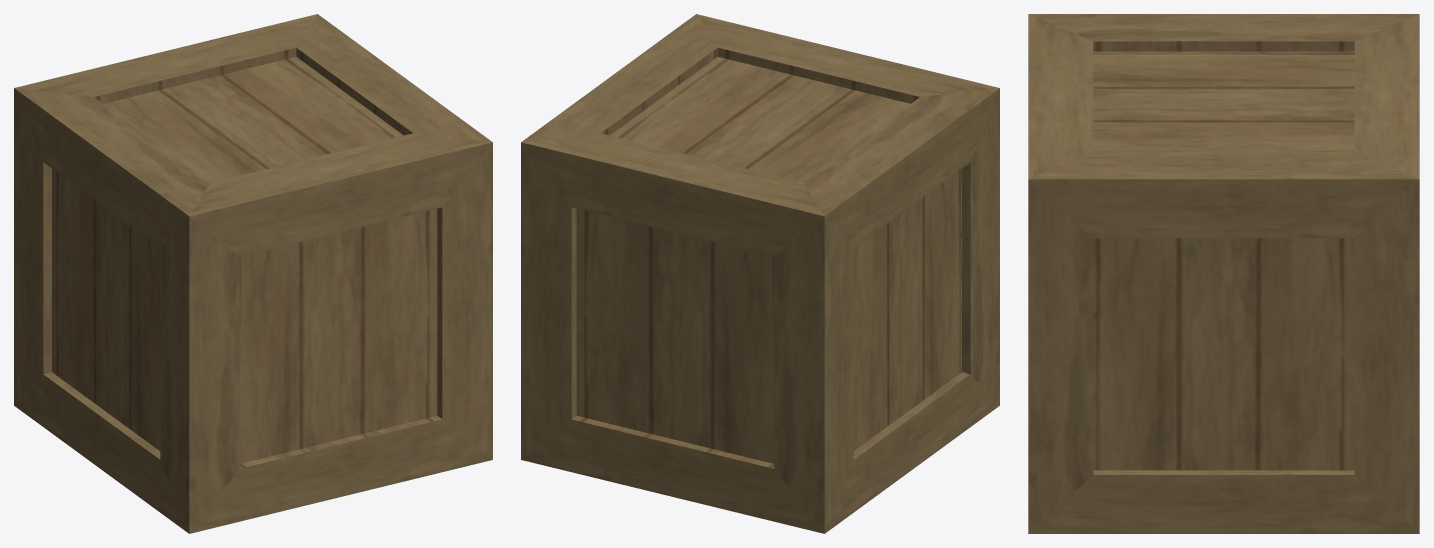
File: crate01.glb
The picture shows the model from 3 angles, left to right: view 1: azimuth 30°, elevation 25°; view 2: azimuth 150°, elevation 25°; view 3: azimuth 270°, elevation 25°; orthographic projection. The views are drawn at different scales.
Visible parts, largest first — view 1: crate01; view 2: crate01; view 3: crate01.
Boxes of the visible parts, x1,y1,x2,y2 form: crate01: (14,14,492,533); crate01: (521,14,999,533); crate01: (1028,14,1419,533).
Bounding box in the file's own units: 0.7 × 0.7 × 0.7.
1 material, 1 textured.
